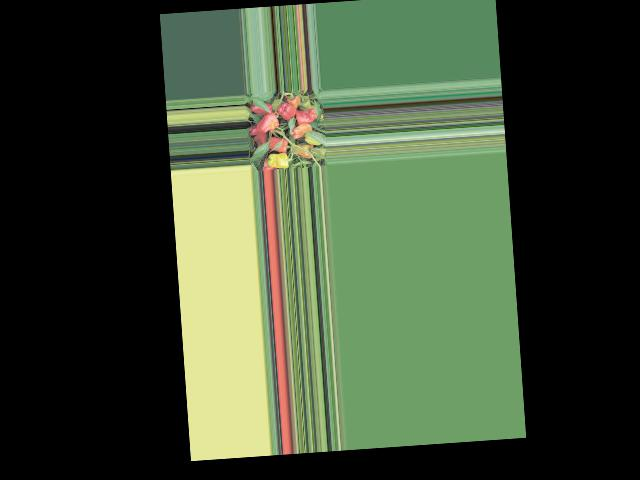bell_pepper: (289, 93, 300, 107)
